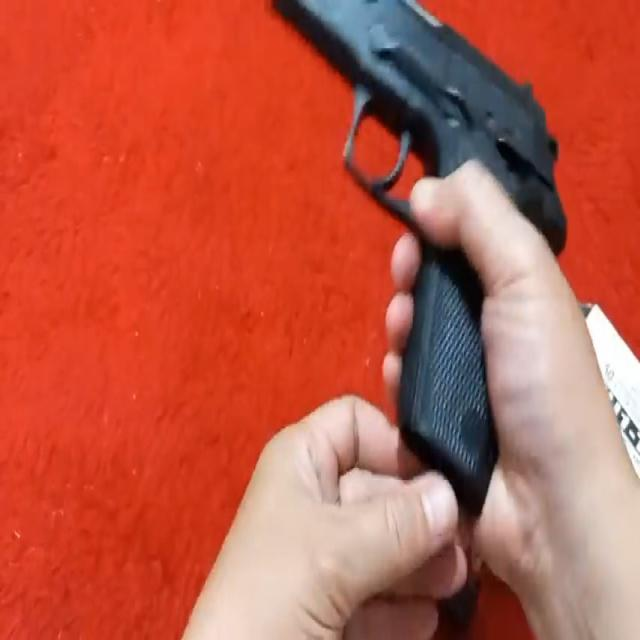handgun: (272, 0, 568, 420)
